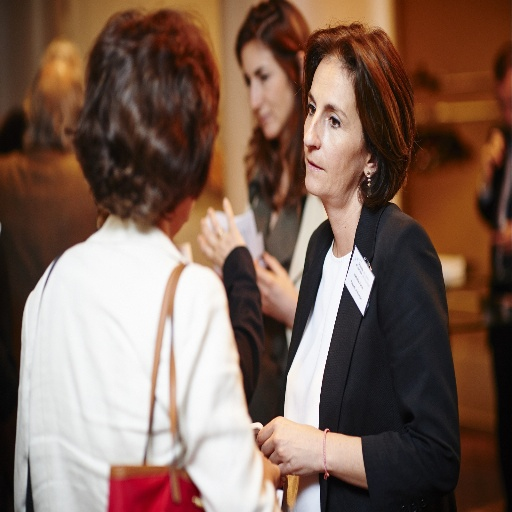hand: (256, 410, 348, 484), (253, 247, 301, 327), (195, 195, 247, 268), (0, 148, 52, 198), (258, 447, 280, 489), (478, 139, 496, 181), (490, 219, 511, 254)
